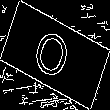O_SW: (32, 23, 78, 87)
